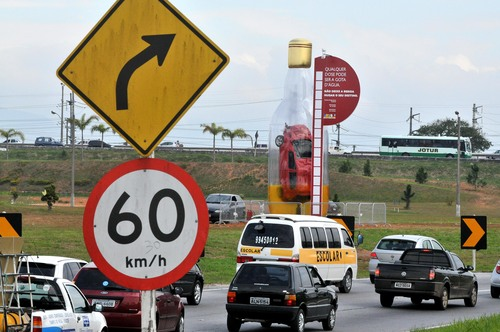Speed_limit_60km: (82, 158, 210, 292)
